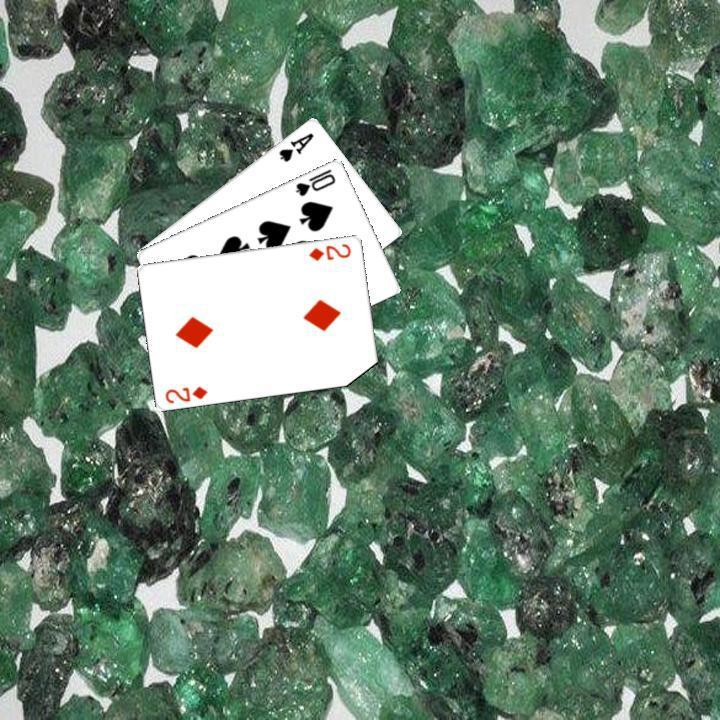10: (291, 164, 338, 198)
2: (161, 381, 209, 405), (305, 239, 353, 262)
A: (274, 128, 316, 163)
